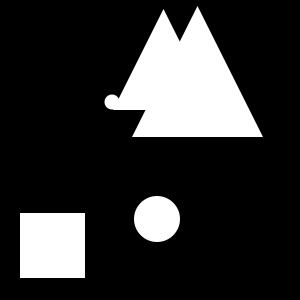circle: (20, 213, 85, 278)
rectangle: (134, 196, 180, 242), (104, 94, 120, 110)
triangle: (132, 6, 263, 137), (113, 9, 214, 110)
